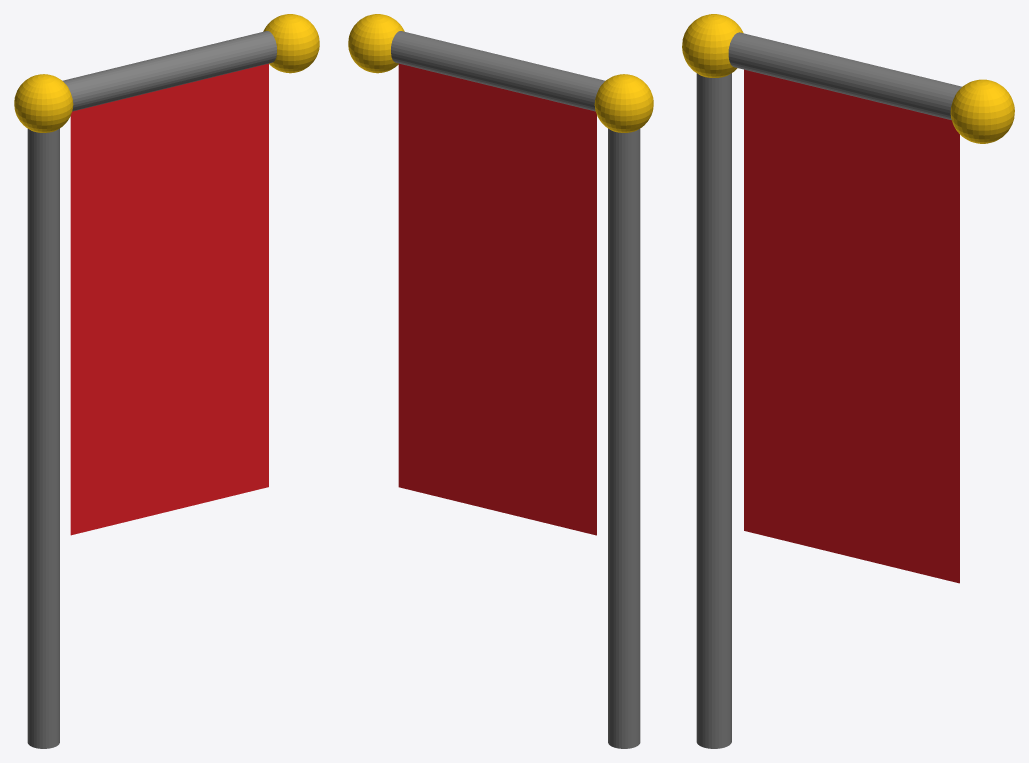
The model's file is flag.obj.
The picture shows the model from 3 angles, left to right: view 1: azimuth 30°, elevation 25°; view 2: azimuth 150°, elevation 25°; view 3: azimuth 330°, elevation 25°; orthographic projection. The views are drawn at different scales.
Parts seen in each view (by area): view 1: 平面, 平面.001, 平面.003, 平面.002, 平面.004; view 2: 平面.005, 平面.001, 平面.003, 平面.002, 平面.004; view 3: 平面, 平面.001, 平面.003, 平面.004, 平面.002.
Boxes of the visible parts, left/top/right/bottom form: 平面: left=71, top=63, right=268, bottom=535; 平面.001: left=27, top=128, right=59, bottom=748; 平面.003: left=62, top=31, right=276, bottom=111; 平面.002: left=14, top=74, right=73, bottom=132; 平面.004: left=263, top=14, right=319, bottom=73; 平面.005: left=398, top=63, right=596, bottom=535; 平面.001: left=608, top=128, right=640, bottom=748; 平面.003: left=391, top=31, right=605, bottom=111; 平面.002: left=594, top=74, right=653, bottom=132; 平面.004: left=348, top=14, right=404, bottom=73; 平面: left=744, top=69, right=959, bottom=583; 平面.001: left=696, top=73, right=731, bottom=748; 平面.003: left=728, top=32, right=961, bottom=119; 平面.004: left=950, top=79, right=1014, bottom=143; 平面.002: left=682, top=14, right=743, bottom=77.
Bounding box in the file's own units: 3.01 × 6.42 × 0.5185.
2 materials, 2 textured.
